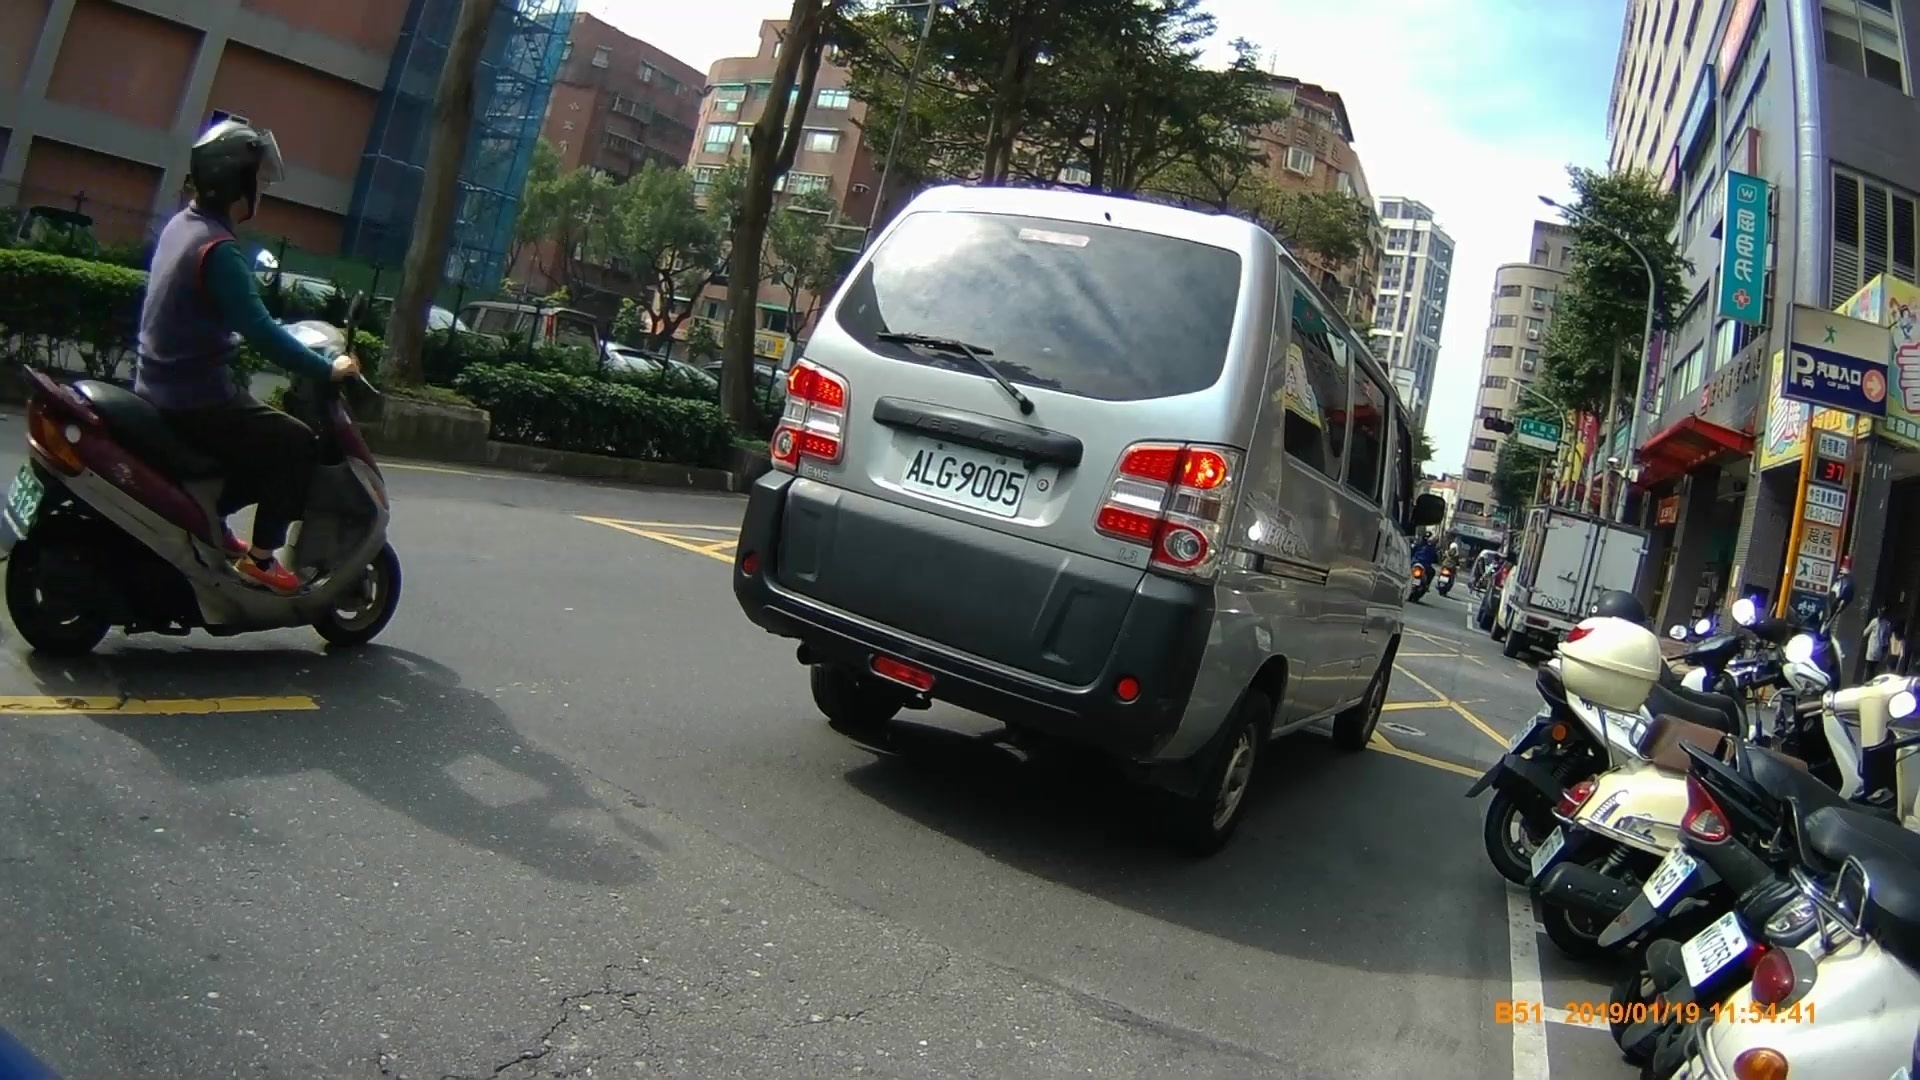License_plate: (902, 435, 1031, 522)
